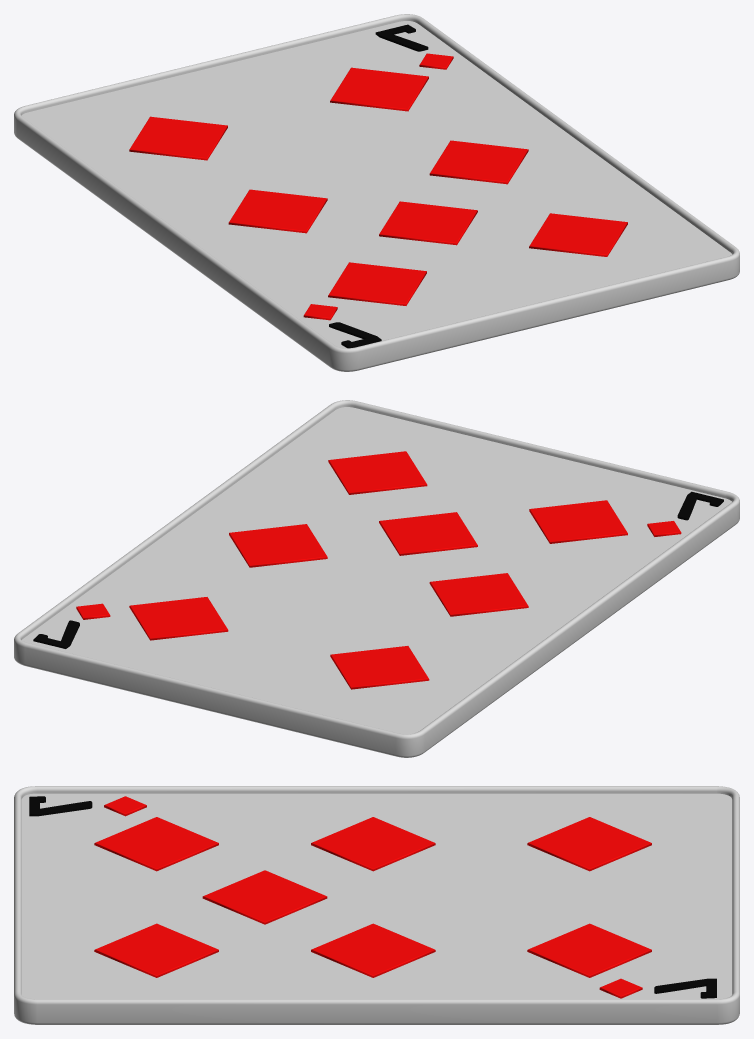
Rendered from 7diamonds.obj.
3 renders of one model, top to bottom at view 1: azimuth 30°, elevation 25°; view 2: azimuth 150°, elevation 25°; view 3: azimuth 270°, elevation 25°, orthographic. The views are drawn at different scales.
Parts seen in each view (by area): view 1: obj13, obj1, obj8, obj4, obj5, obj6, obj3, obj7, obj2, obj12, obj11; view 2: obj13, obj1, obj4, obj2, obj3, obj5, obj7, obj8, obj6; view 3: obj13, obj1, obj7, obj2, obj4, obj5, obj3, obj6, obj8, obj11, obj12, obj10 (+1 smaller).
Boxes of the visible parts, x1,y1,x2,y2 form: obj13: (21, 21, 732, 348); obj1: (14, 14, 739, 371); obj8: (429, 140, 528, 184); obj4: (228, 189, 327, 233); obj5: (529, 213, 627, 256); obj6: (330, 67, 428, 111); obj3: (129, 116, 227, 160); obj7: (379, 201, 477, 245); obj2: (328, 262, 426, 305); obj12: (375, 24, 428, 51); obj11: (329, 322, 381, 348); obj13: (22, 407, 731, 734); obj1: (14, 400, 739, 757); obj4: (429, 573, 528, 616); obj2: (529, 500, 627, 543); obj3: (330, 646, 429, 689); obj5: (328, 451, 427, 494); obj7: (379, 512, 477, 555); obj8: (229, 524, 327, 567); obj6: (129, 597, 228, 640); obj13: (21, 793, 732, 999); obj1: (14, 786, 739, 1024); obj7: (202, 870, 327, 924); obj2: (94, 817, 218, 871); obj4: (311, 817, 435, 871); obj5: (94, 923, 218, 977); obj3: (527, 817, 651, 871); obj6: (527, 923, 651, 977); obj8: (311, 923, 435, 977); obj11: (29, 796, 92, 816); obj12: (654, 978, 716, 998); obj10: (599, 978, 642, 998).
Size of the model in its own units: 2.2 by 0.1183 by 3.11.
